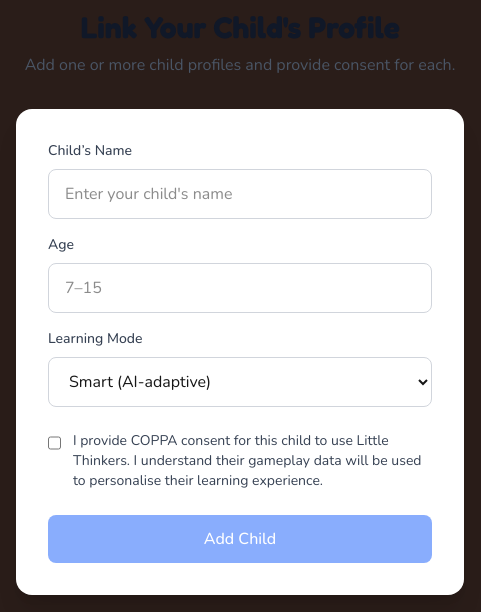
ChildSetupPage — Story 2.1 AC1 + AC2 › shows added child name in the enrolled list after successful add (AC1)
Step 1. Type "Sam" into the field labelled "Child’s Name" → (240,194), box [48,169,432,219]
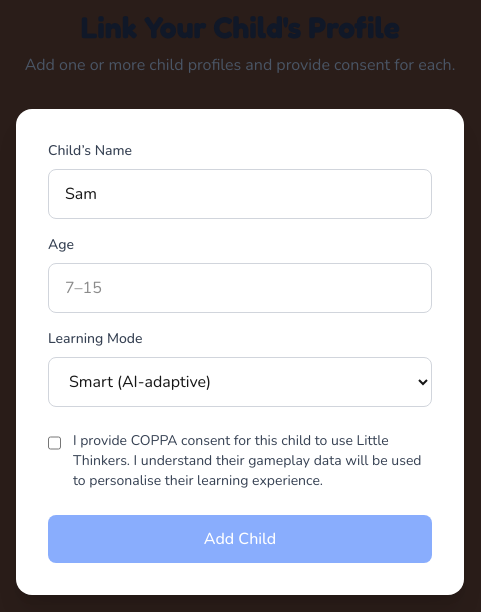
Step 2. Type "10" into the number field labelled "Age" → (240,288), box [48,263,432,313]
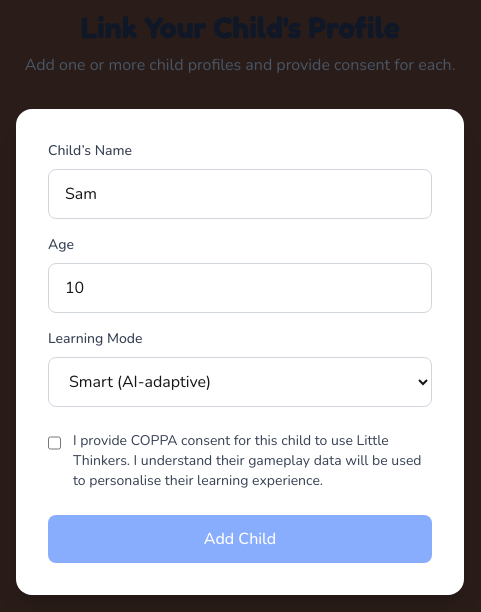
Step 3. Click the checkbox labelled "COPPA" → (54,443), box [48,435,61,451]
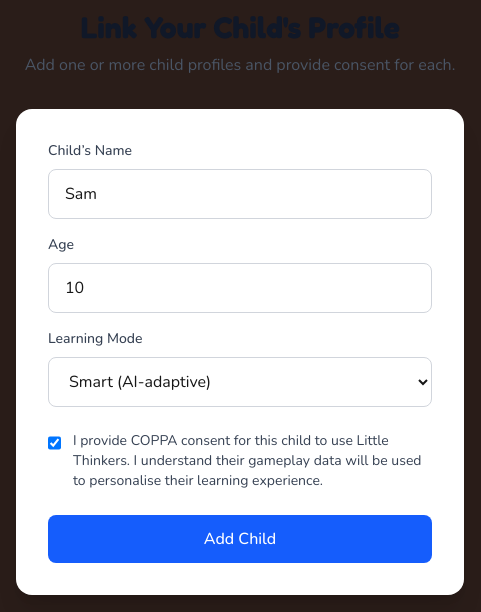
Step 4. Click the button "Add Child" → (240,539), box [48,515,432,563]
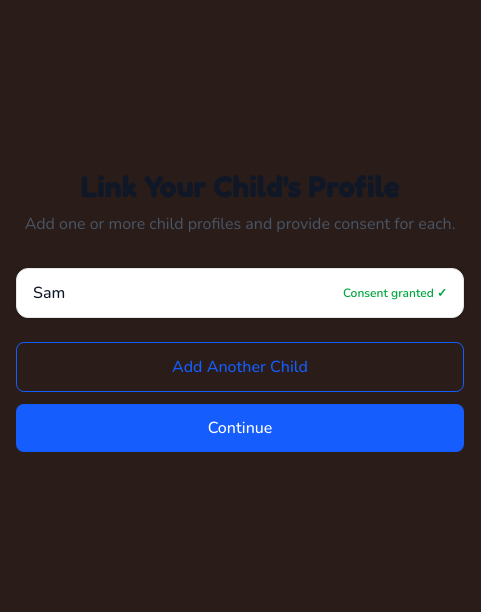
Expected: the text "Sam" is shown, [33,281,65,305]
